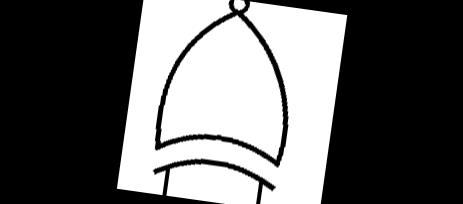xnor: (140, 0, 309, 200)
